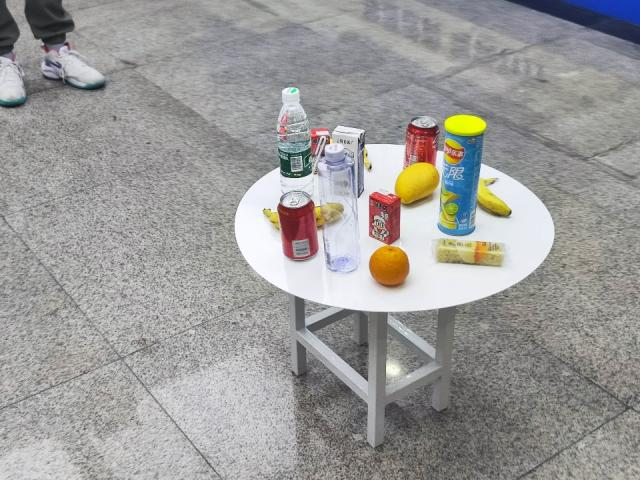Canned_drinks: (279, 189, 321, 263)
bottle: (320, 142, 362, 286), (271, 87, 318, 193)
cylinder: (439, 107, 485, 242)
drink_box: (370, 191, 397, 246)
